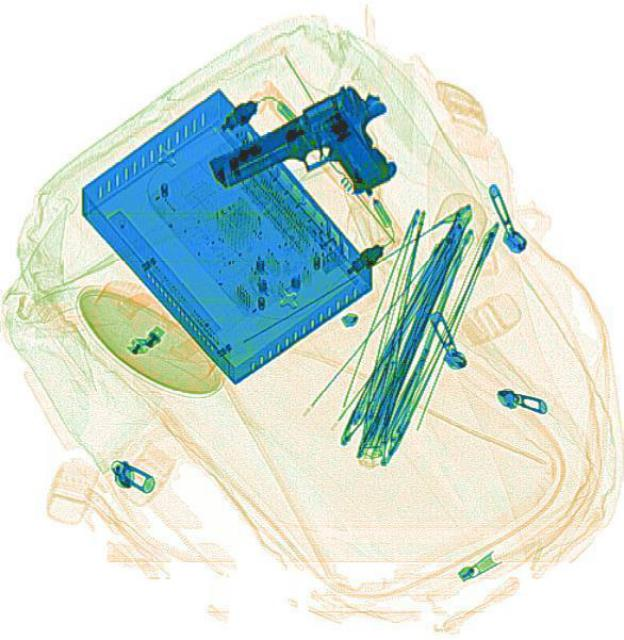Gun: (200, 70, 418, 248)
